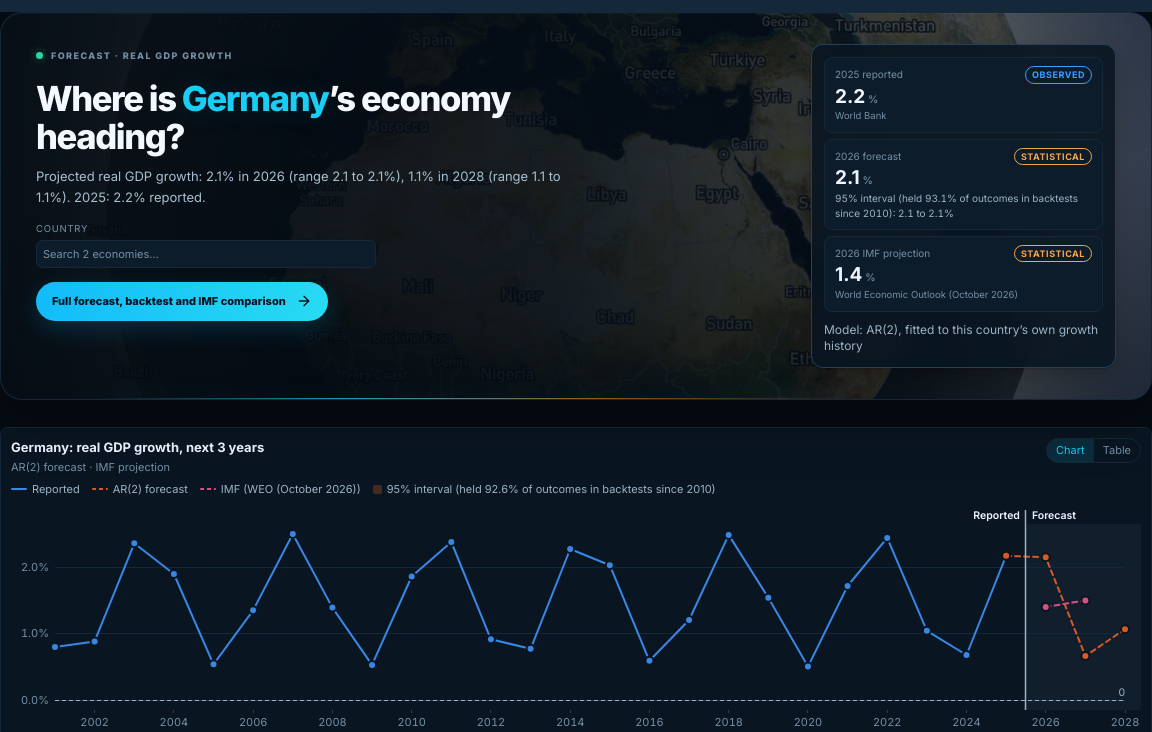
ForecastHome › gives the forecast chart a table with the same values
expect the element named "Germany forecast at a glance" is shown: met, box left=811, top=44, right=1116, bottom=368
Click the button "Table": [1117, 450] box left=1094, top=439, right=1140, bottom=462
(page scrolled)
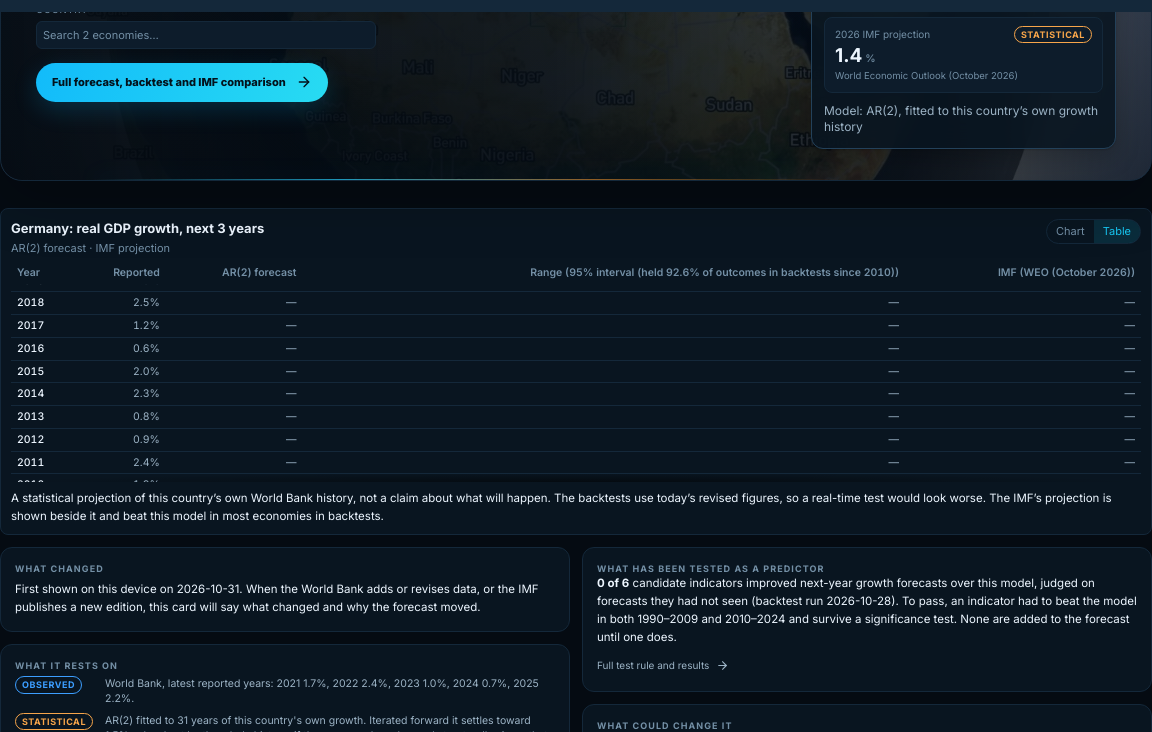
expect the table shows "Range (": met, box left=530, top=266, right=899, bottom=279
expect the table shows "IMF": met, box left=998, top=266, right=1135, bottom=279
